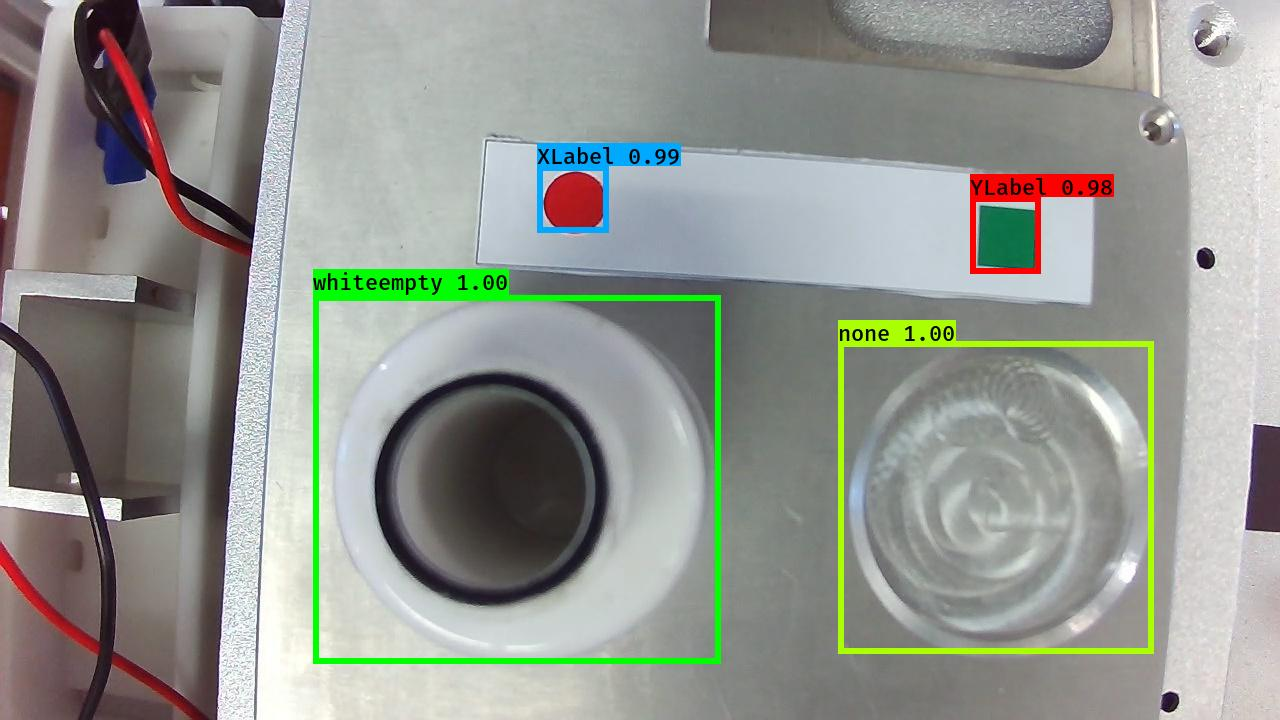XLabel: (541, 167, 610, 236)
YLabel: (971, 201, 1042, 274)
none: (836, 323, 1167, 667)
whiteempty: (320, 291, 717, 668)
